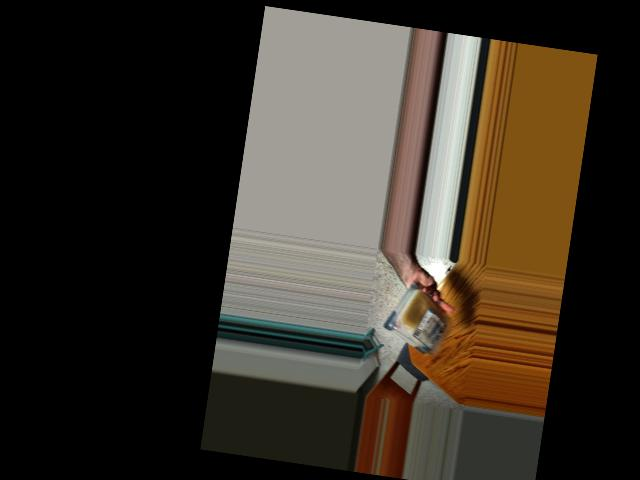cheese: (384, 282, 449, 361)
